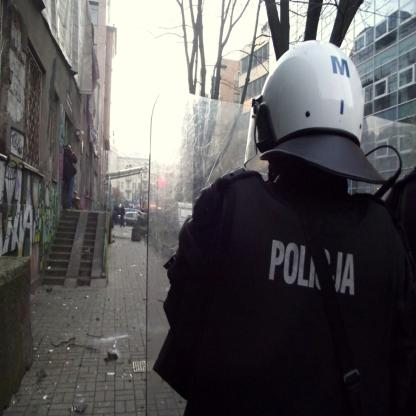Helmet: (252, 46, 370, 188), (65, 143, 72, 151)
